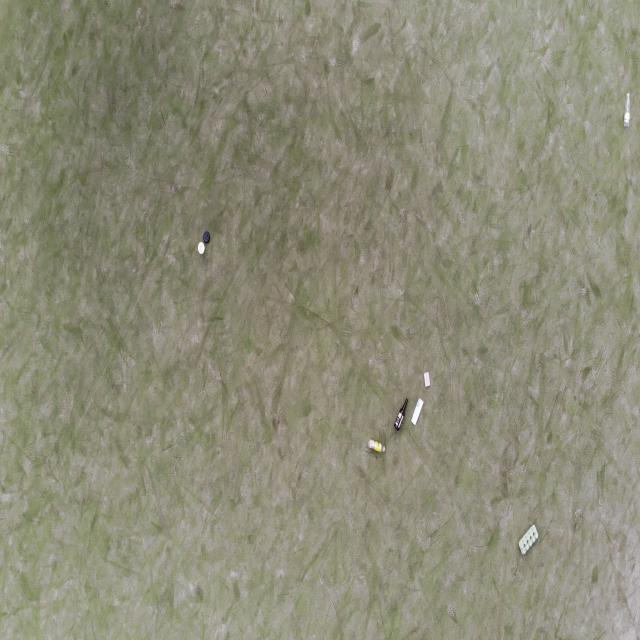rubbish: (518, 522, 540, 554), (393, 399, 408, 431), (411, 397, 424, 425), (622, 92, 631, 127), (368, 440, 386, 452), (423, 370, 431, 387), (203, 230, 211, 245), (198, 242, 205, 254)
